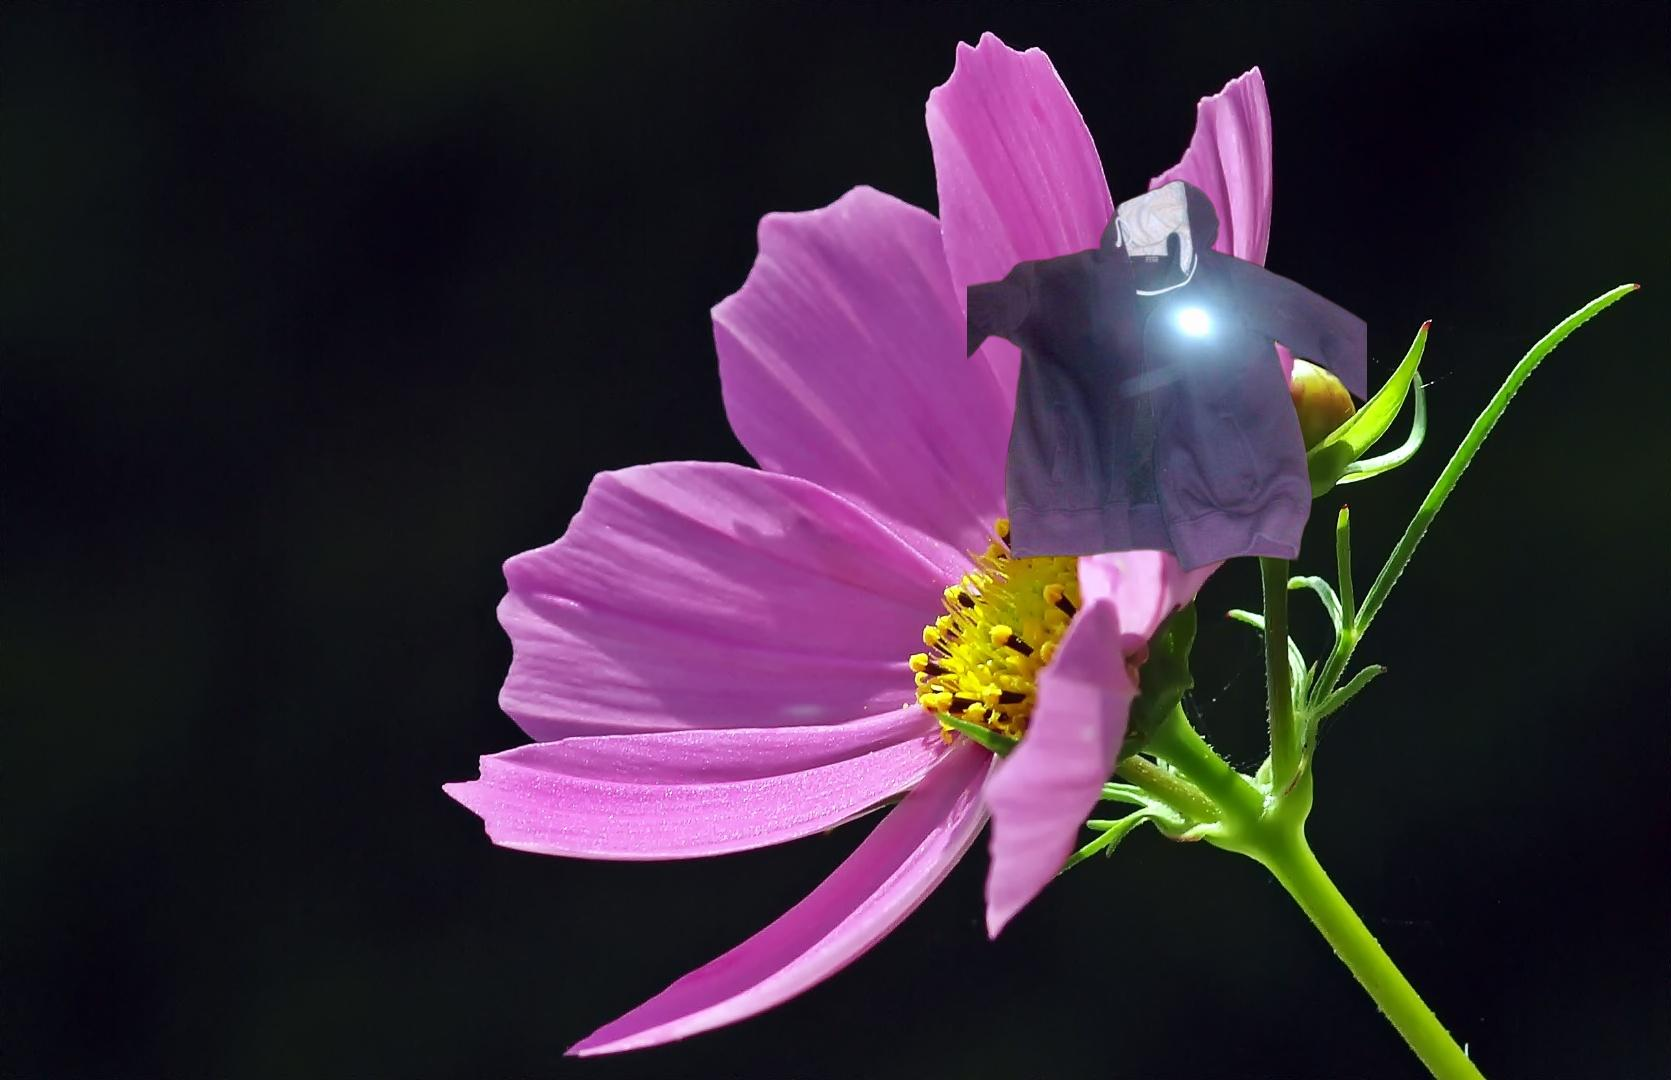clothes: (967, 177, 1367, 584)
